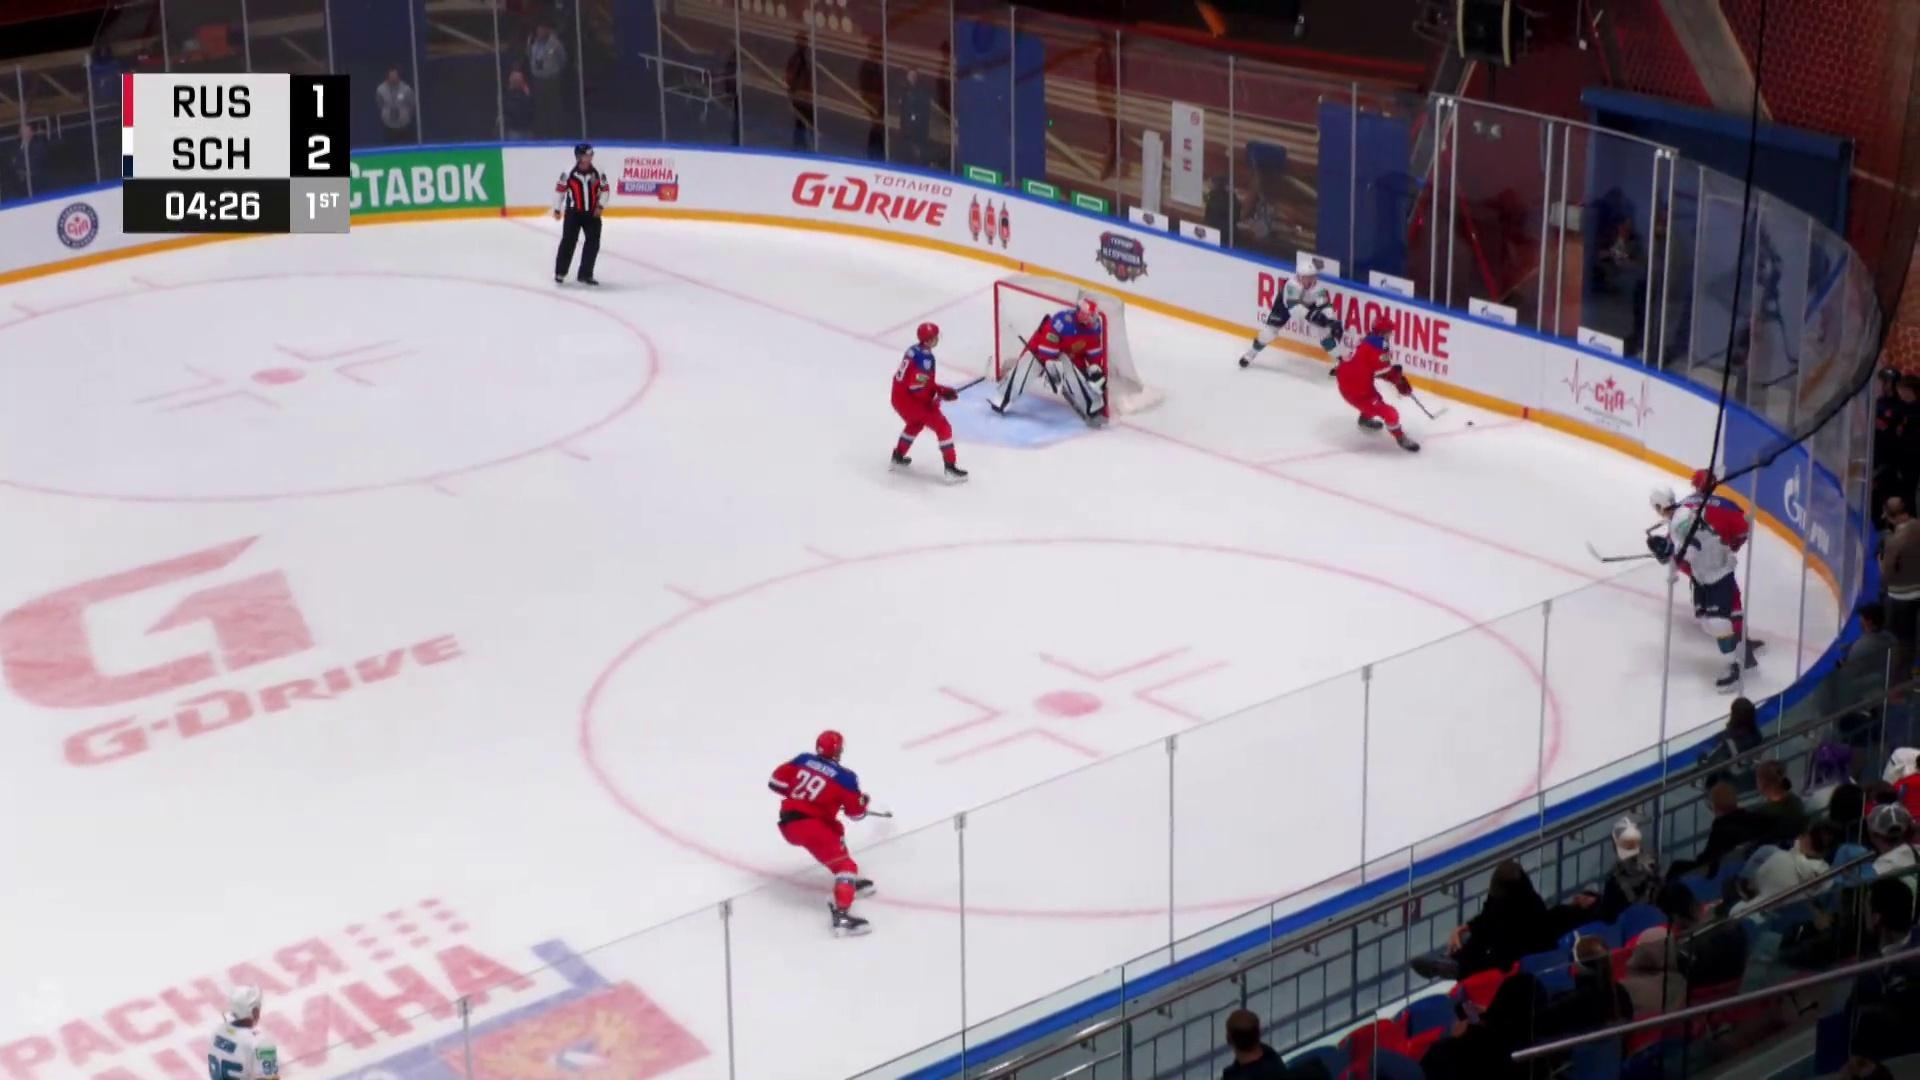ball: (1466, 421, 1476, 427)
